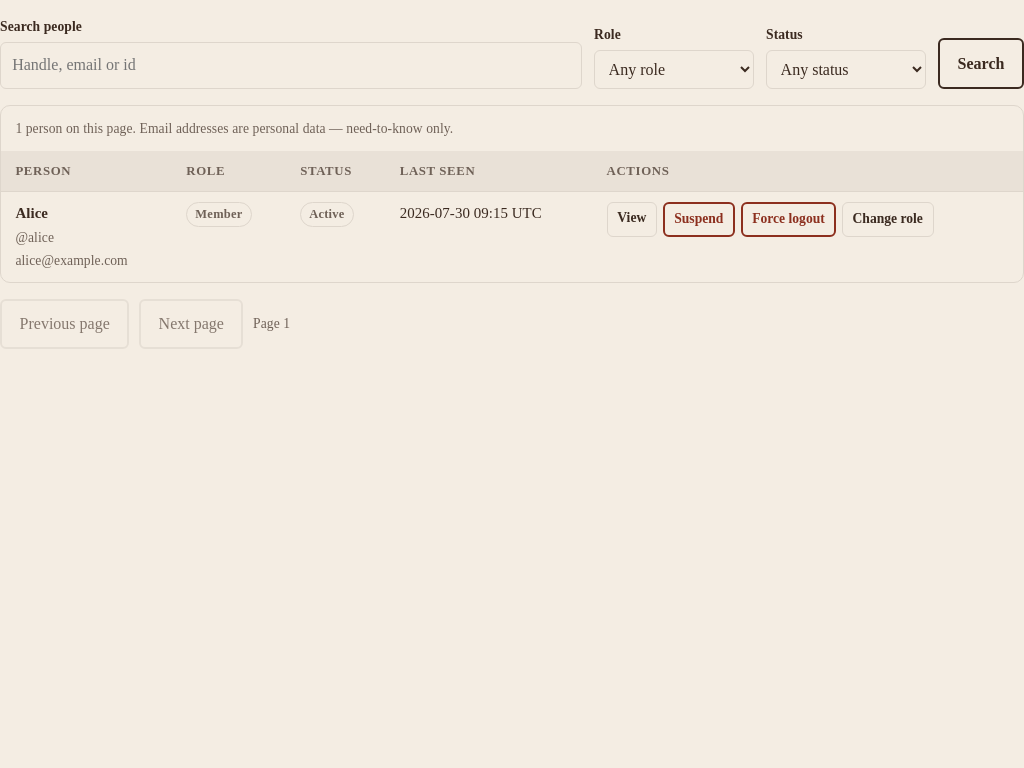
Test case: destructive confirmations › surfaces a 403 mfa_required error body the same way
expect the link named "view alice" is shown: met, box [607,202,657,237]
Click the button named "force logout alice".
click(788, 219)  # box [741,202,836,237]
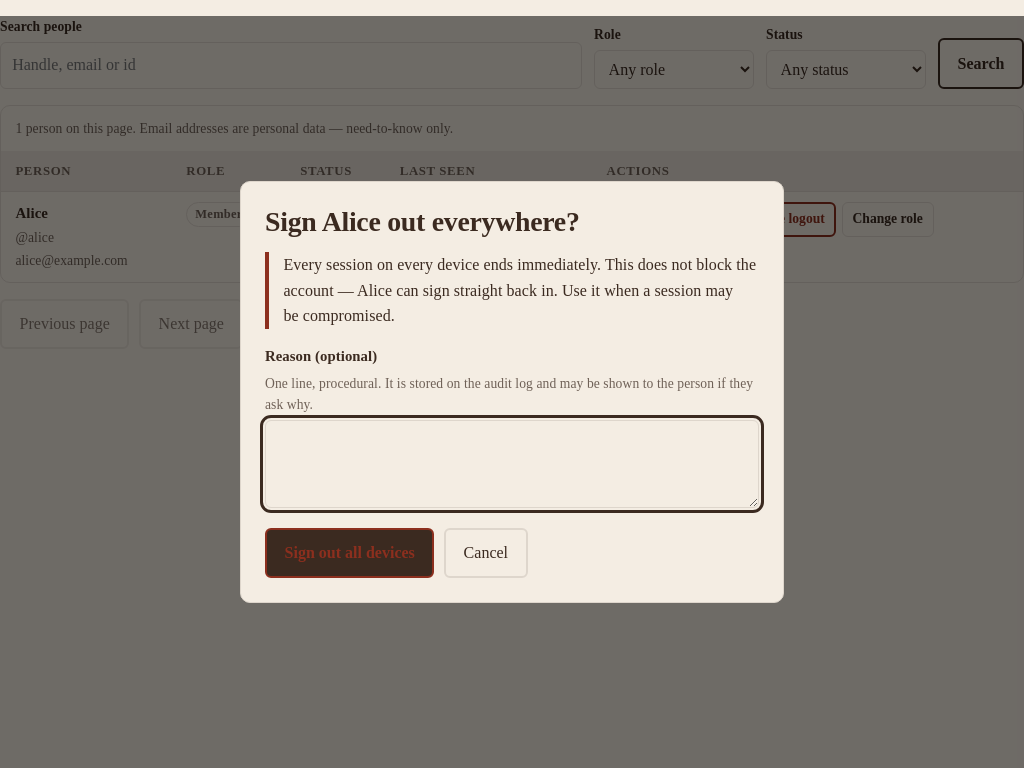
Click the button "Sign out all devices".
click(350, 553)  # box [265,528,434,578]
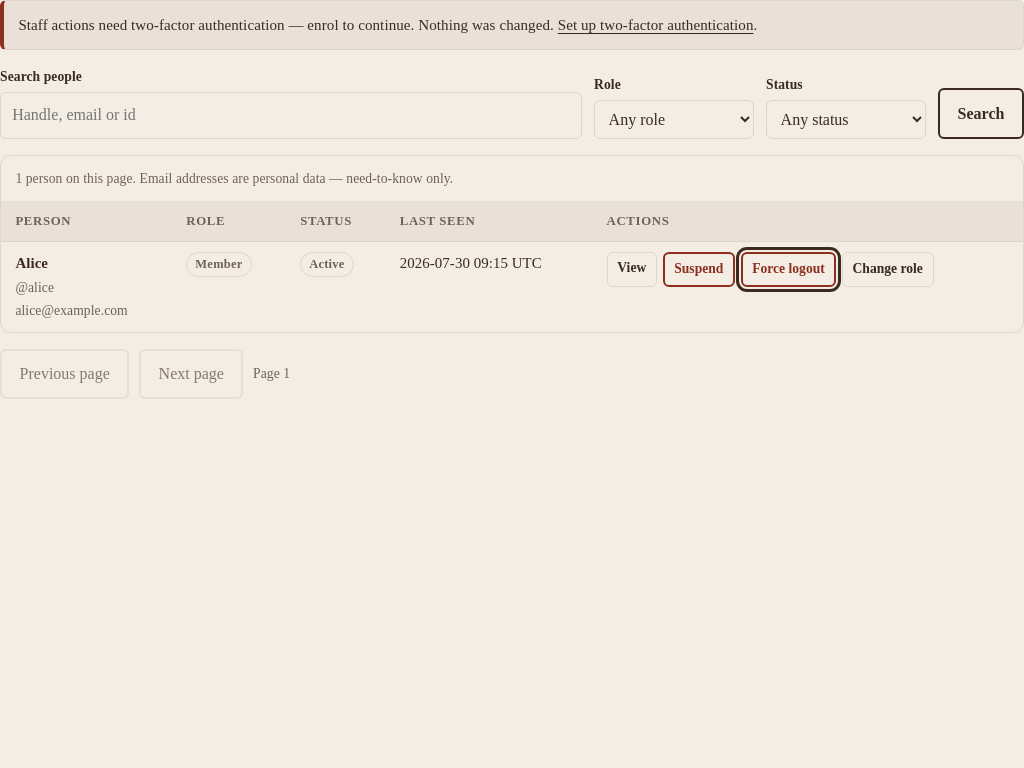
expect the text "Staff actions need two-factor authentication" is shown: met, box [18,17,554,33]
